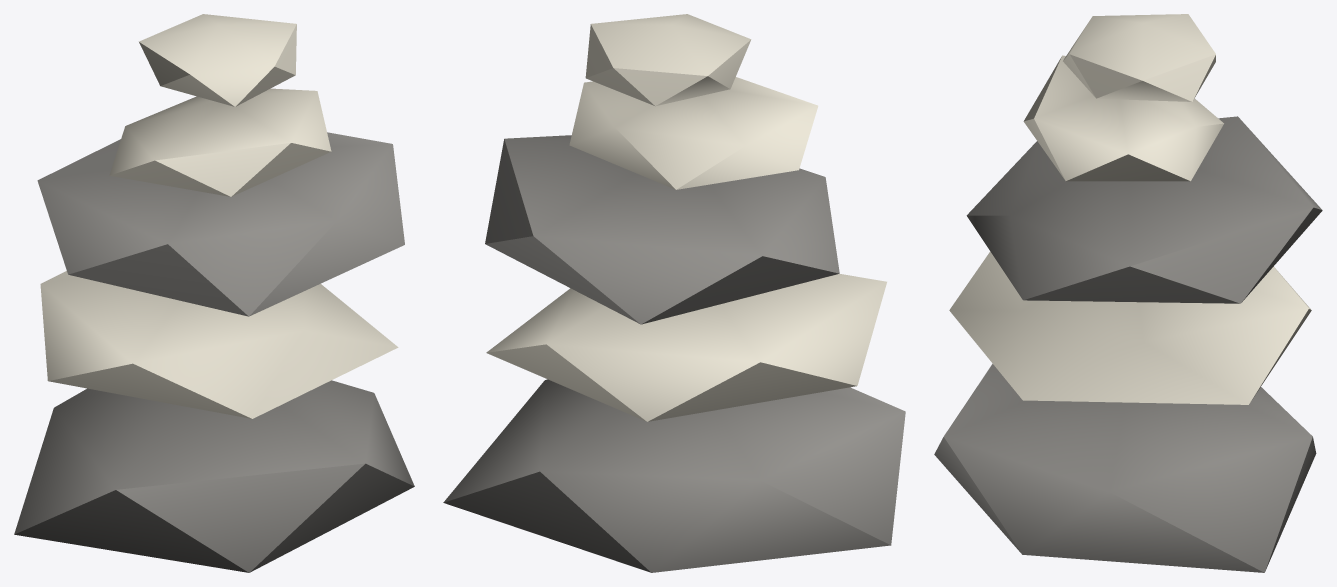
File: cairn_a.glb
3 renders of one model, left to right at view 1: azimuth 30°, elevation 25°; view 2: azimuth 150°, elevation 25°; view 3: azimuth 270°, elevation 25°, orthographic. The views are drawn at different scales.
Visible parts, largest first — view 1: cairn_a; view 2: cairn_a; view 3: cairn_a.
Boxes of the visible parts, x1,y1,x2,y2 form: cairn_a: (14, 14, 414, 572); cairn_a: (443, 14, 905, 572); cairn_a: (934, 14, 1322, 572).
Size of the model in its own units: 0.6981 by 0.8997 by 0.6093.
